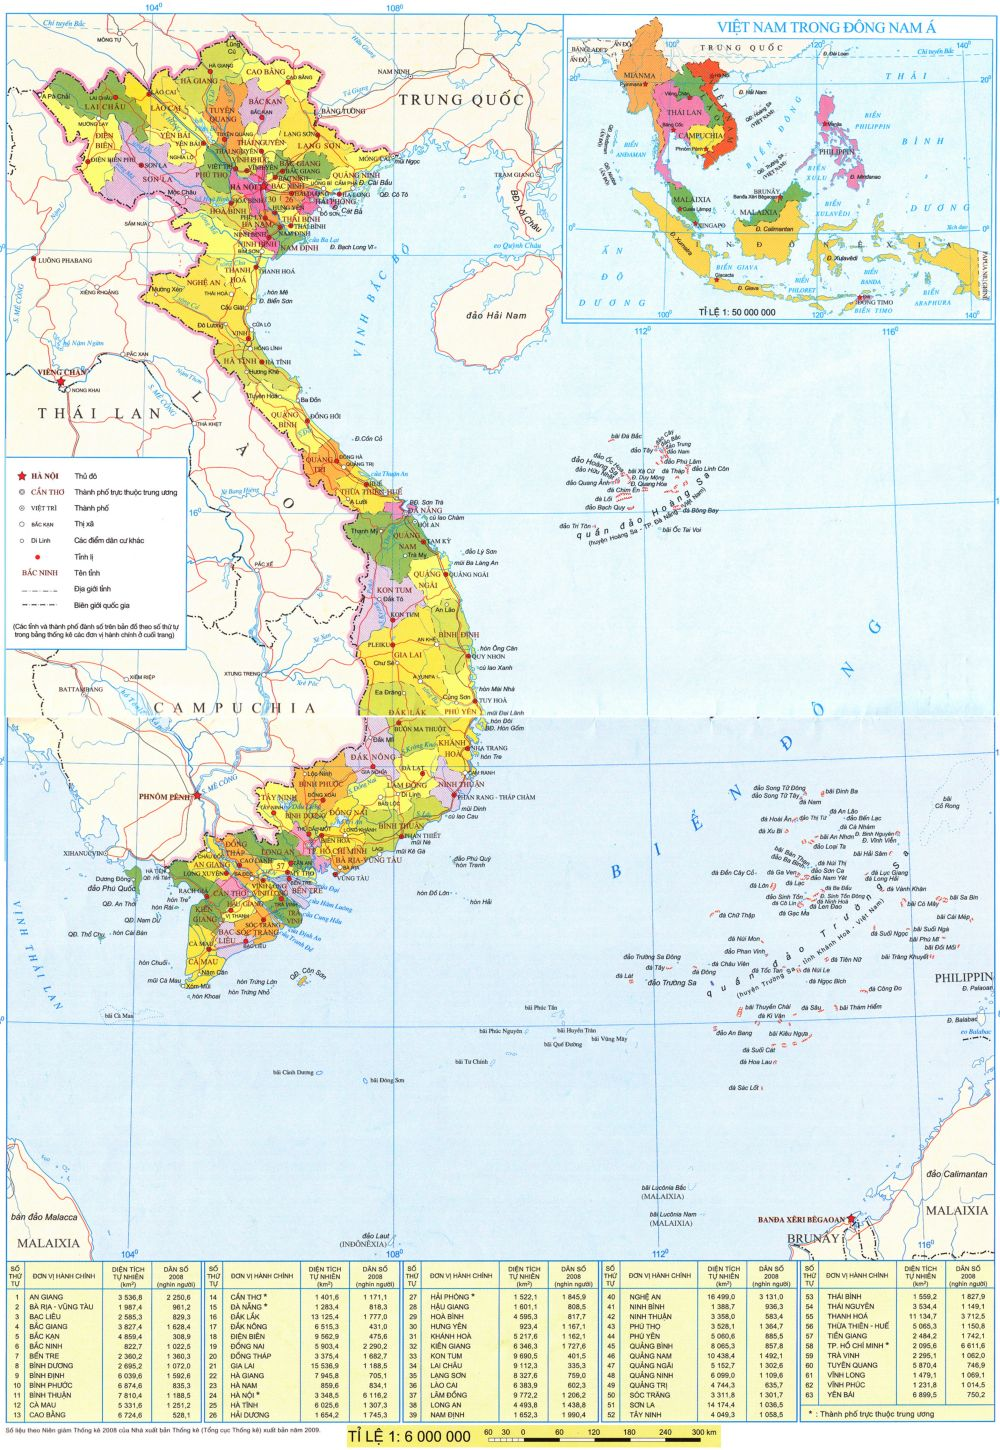Island: (611, 782, 1000, 1085), (555, 428, 740, 556)
